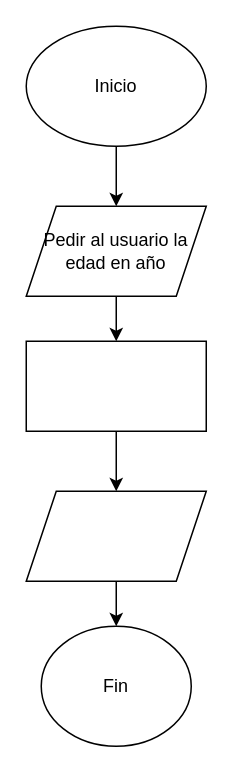
Image size: 233x773. Some labels were removed from this diagram. The centre of each missing label's shape, as x and y in pixels:
"edad * 365" goes at pixel 115 385.
"Mostrar la edad en dias" goes at pixel 115 535.
